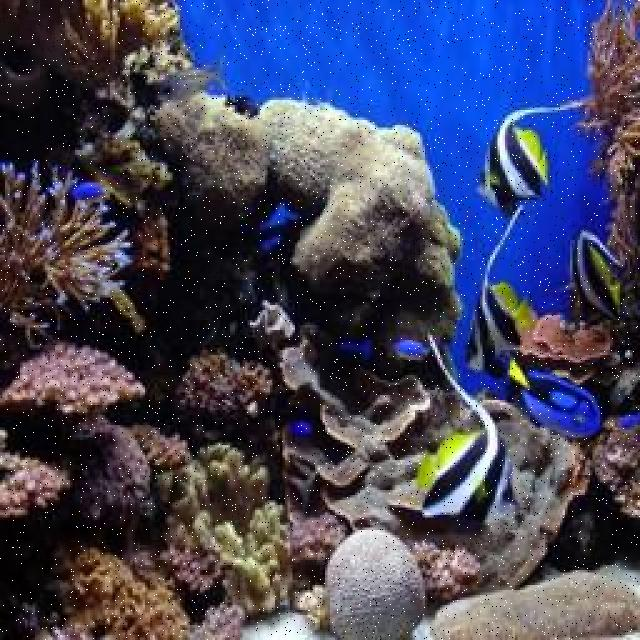fish: (418, 333, 518, 524), (475, 96, 599, 218), (464, 204, 540, 382), (508, 359, 601, 438), (559, 229, 629, 320), (157, 57, 226, 104), (72, 177, 108, 199), (392, 340, 430, 360), (290, 421, 314, 437)
reefs: (156, 91, 465, 288), (3, 162, 134, 345), (156, 444, 293, 617), (64, 549, 195, 638), (326, 528, 426, 638), (0, 340, 143, 416), (0, 425, 70, 519), (176, 351, 273, 418)
